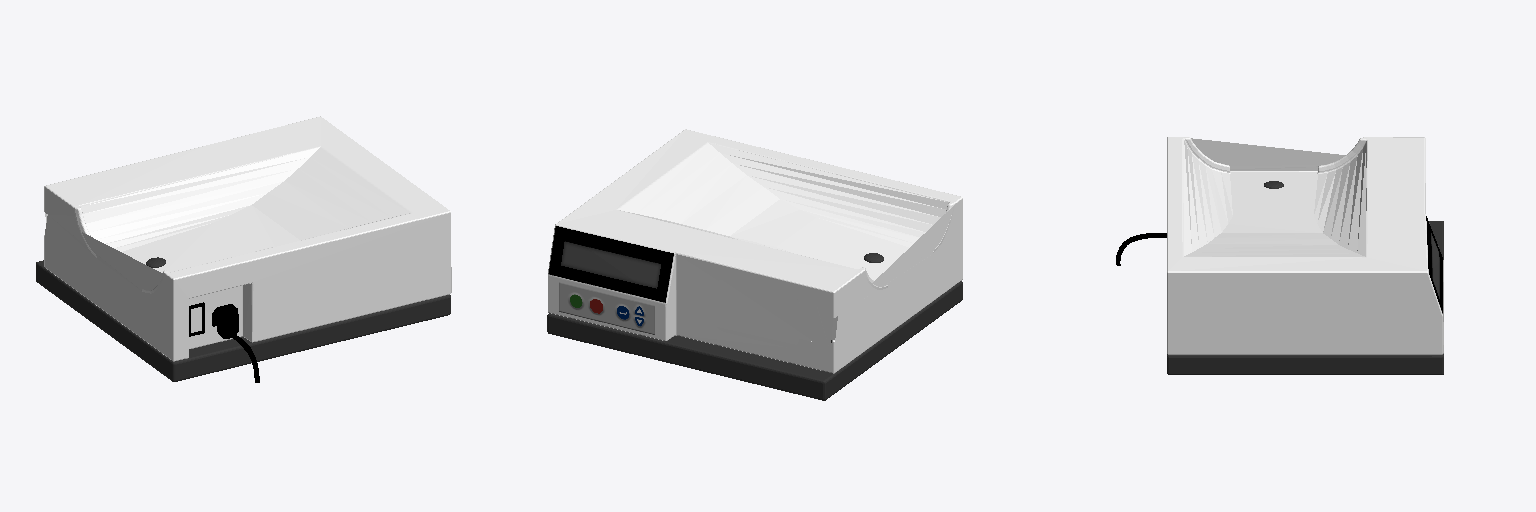
3 views of the same model, side by side, from view 1: azimuth 30°, elevation 25°; view 2: azimuth 150°, elevation 25°; view 3: azimuth 270°, elevation 25° (orthographic).
Parts seen in each view (by area): view 1: polySurface18 DeviceBody DeviceBody, DeviceBase, DeviceBody polySurface15; view 2: polySurface18 DeviceBody DeviceBody, DeviceBase; view 3: polySurface18 DeviceBody DeviceBody, DeviceBase.
Boxes of the visible parts, <box> form: polySurface18 DeviceBody DeviceBody: <box>44,116,451,361</box>; DeviceBase: <box>36,260,450,381</box>; DeviceBody polySurface15: <box>212,304,259,382</box>; polySurface18 DeviceBody DeviceBody: <box>548,129,962,373</box>; DeviceBase: <box>547,281,962,400</box>; polySurface18 DeviceBody DeviceBody: <box>1167,137,1443,354</box>; DeviceBase: <box>1167,221,1443,374</box>.
Size of the model in its own units: 16.99 by 6.06 by 17.33.
6 materials, 1 textured.